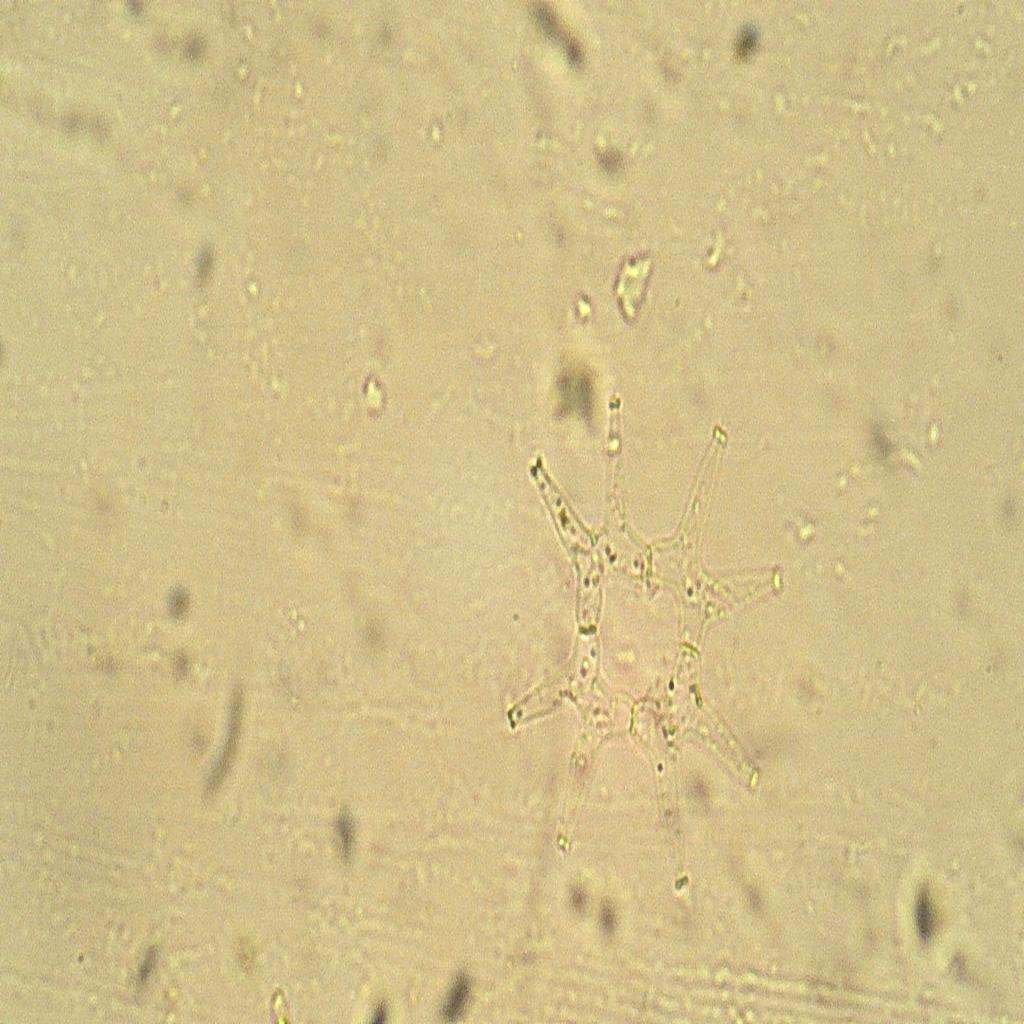Pediastrum_1F0: (495, 377, 806, 927)
